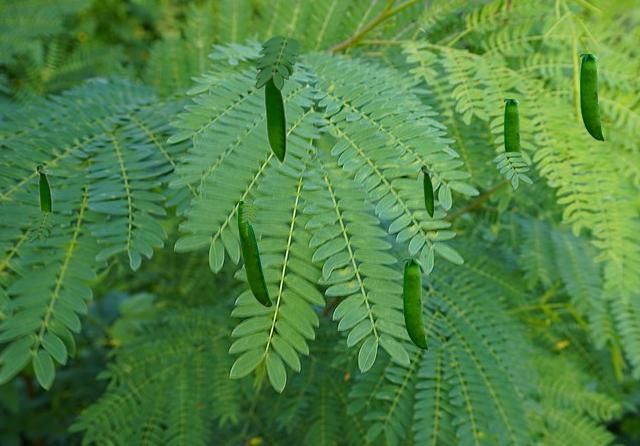pea: (237, 210, 271, 306), (259, 70, 286, 166), (403, 259, 427, 350), (580, 54, 603, 141), (504, 99, 522, 156), (35, 163, 51, 211), (420, 164, 433, 219), (238, 201, 248, 243)
